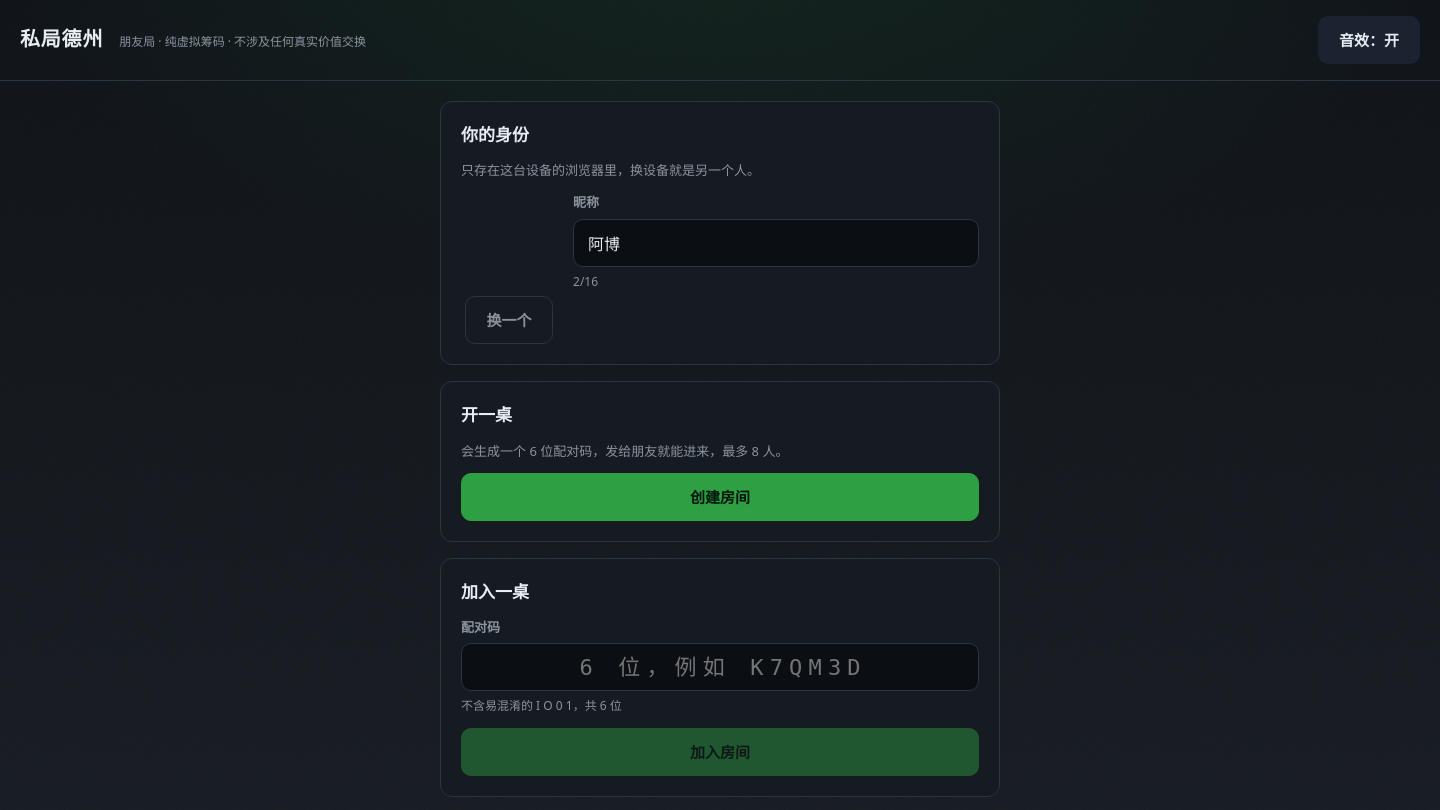
it: 大厅 · 创建房间 › 服务端没起时不白屏：页面结构照旧，多一条红色横幅说明怎么办
The width and height of the screenshot is (1440, 810).
Step 1. Click the button "创建房间" → (720, 497), box [461, 473, 979, 521]
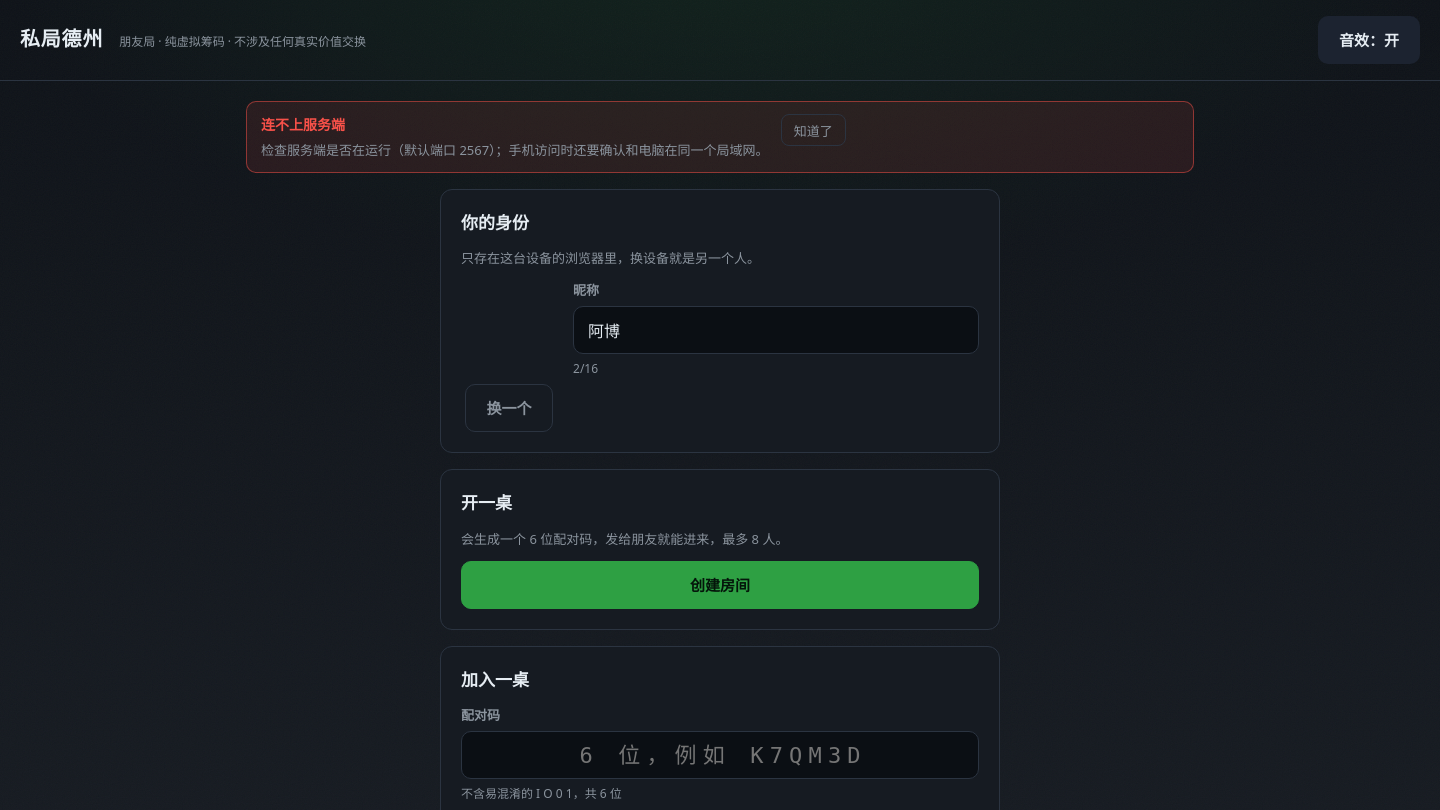
Check: the field labelled "昵称" is shown, box [573, 306, 979, 354]
Check: the message shows "连不上服务端", box [261, 115, 345, 134]
Check: the message shows "2567", box [261, 141, 769, 159]
